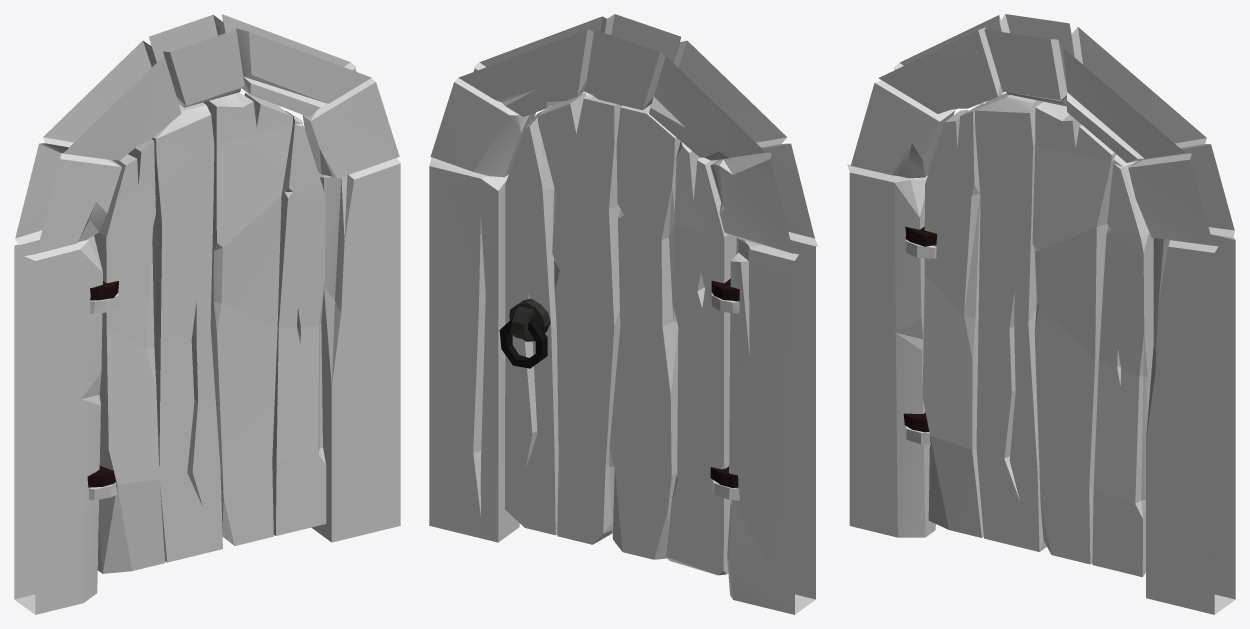
File: NGF_Env_Door_arc_01.fbx
3 renders of one model, left to right at view 1: azimuth 30°, elevation 25°; view 2: azimuth 150°, elevation 25°; view 3: azimuth 330°, elevation 25°, orthographic.
Visible parts, largest first — view 1: NGF_Env_Door_arc_01, NGF_Env_Door_01, NGF_Env_Hinges_05, NGF_Env_Hinges_02; view 2: NGF_Env_Door_arc_01, NGF_Env_Door_01, NGF_Env_Handle_03, NGF_Env_Handle_attachment_03, NGF_Env_Hinges_05, NGF_Env_Hinges_02; view 3: NGF_Env_Door_01, NGF_Env_Door_arc_01, NGF_Env_Hinges_05, NGF_Env_Hinges_02.
Boxes of the visible parts, box(x1,y1,x2,y2) form: NGF_Env_Door_arc_01: box(14, 14, 400, 614); NGF_Env_Door_01: box(94, 92, 326, 573); NGF_Env_Hinges_05: box(87, 281, 118, 487); NGF_Env_Hinges_02: box(88, 294, 118, 500); NGF_Env_Door_arc_01: box(429, 14, 818, 614); NGF_Env_Door_01: box(505, 92, 736, 575); NGF_Env_Handle_03: box(499, 317, 547, 368); NGF_Env_Handle_attachment_03: box(509, 298, 550, 341); NGF_Env_Hinges_05: box(710, 279, 739, 487); NGF_Env_Hinges_02: box(711, 293, 739, 500); NGF_Env_Door_01: box(922, 93, 1153, 577); NGF_Env_Door_arc_01: box(847, 14, 1235, 614); NGF_Env_Hinges_05: box(903, 226, 937, 432); NGF_Env_Hinges_02: box(905, 240, 936, 445).
Bounding box in the file's own units: 2.05 × 2.81 × 0.3371.
1 material, 1 textured.
